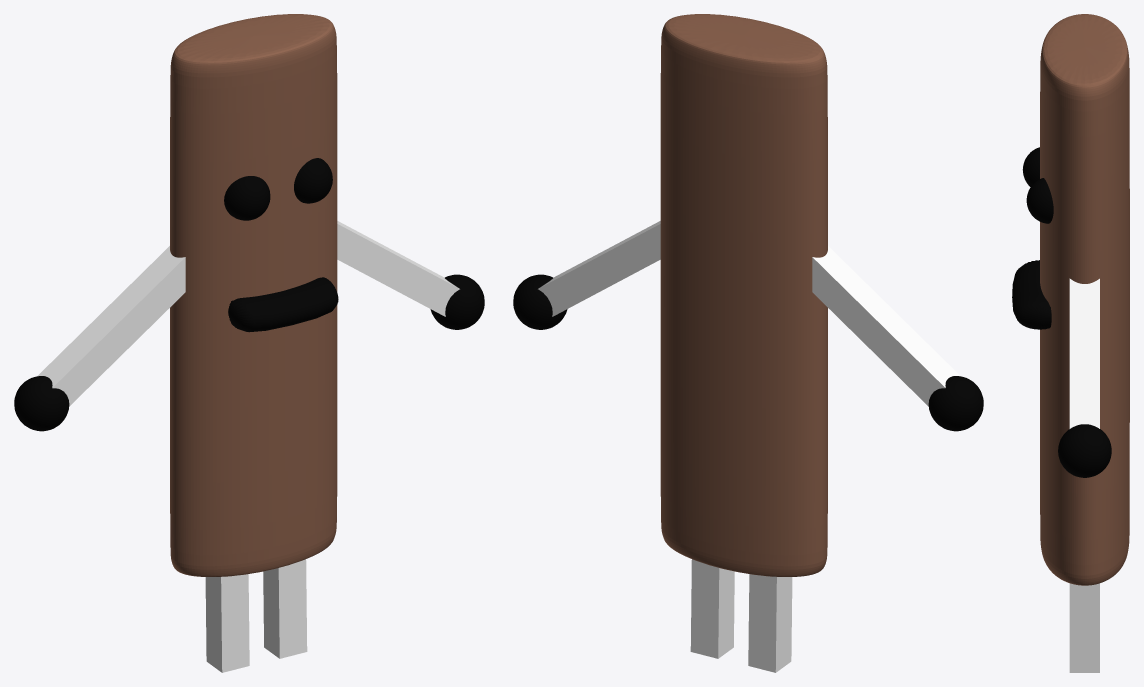
The model's file is poppo.glb.
3 views of the same model, side by side, from view 1: azimuth 30°, elevation 25°; view 2: azimuth 150°, elevation 25°; view 3: azimuth 270°, elevation 25° (orthographic). The views are drawn at different scales.
Parts seen in each view (by area): view 1: 円柱.008; view 2: 円柱.008; view 3: 円柱.008.
Boxes of the visible parts, x1,y1,x2,y2 form: 円柱.008: [14, 14, 484, 672]; 円柱.008: [513, 14, 983, 672]; 円柱.008: [1012, 14, 1129, 672].
Size of the model in its own units: 7.12 by 9.13 by 1.61.
